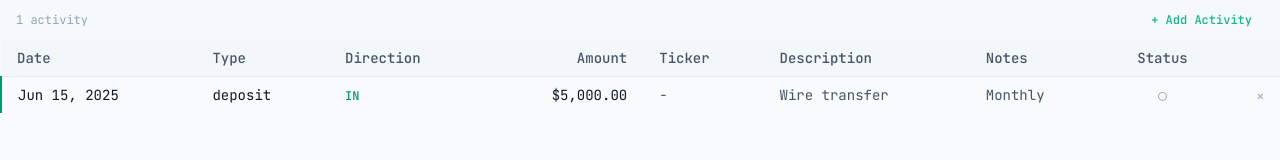
Test case: ActivityTable › date cell › is editable for manual activities
What coordinates should you click on to do the following:
click the text with test id "date-cell-act-1"
I would click on:
 (68, 95)
Its box is [14,86,123,104].
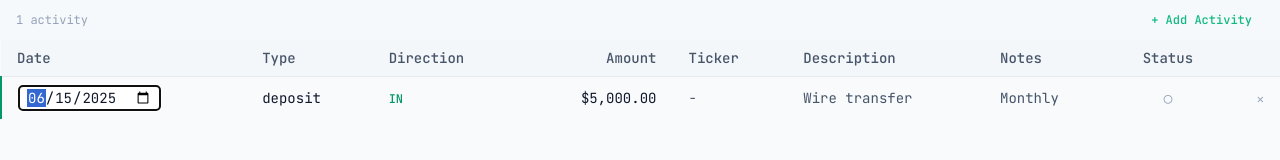
Expected: the date field with test id "edit-date" is shown, [18,85,161,111]
